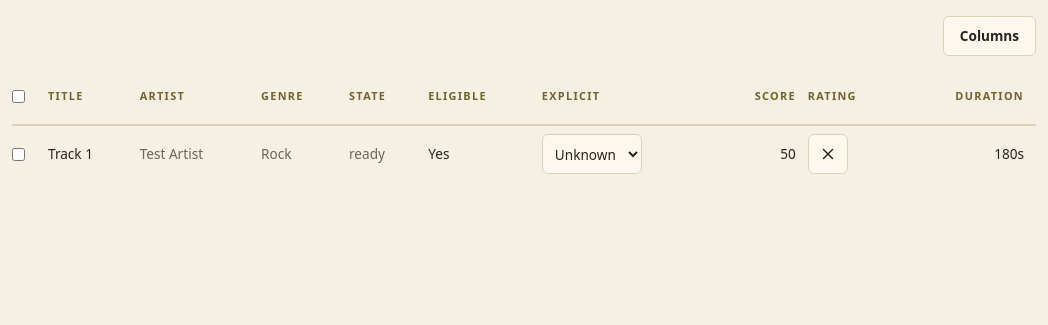
Test case: Feature: Rank artists and albums from the Catalog toolbar › Scenario: the four actions render in both toolbar modes › vote up / vote down / never-play / restore render beside eligibility/reassign/reenrich in selection mode (F61.4)
Click the checkbox named "Select Track 1": [18, 154] box left=12, top=148, right=25, bottom=160
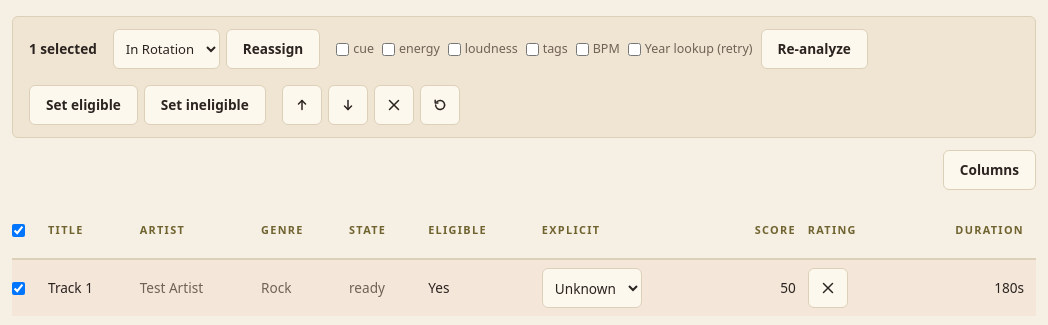
Expected: the button named "Vote up" is shown, left=282, top=85, right=322, bottom=125
Expected: the button named "Vote down" is shown, left=328, top=85, right=368, bottom=125
Expected: the button named "Never play" below "cue" is shown, left=374, top=85, right=414, bottom=125
